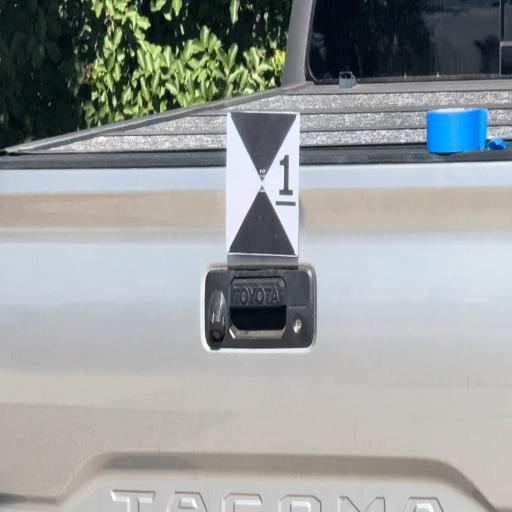target1: (227, 112, 297, 253)
